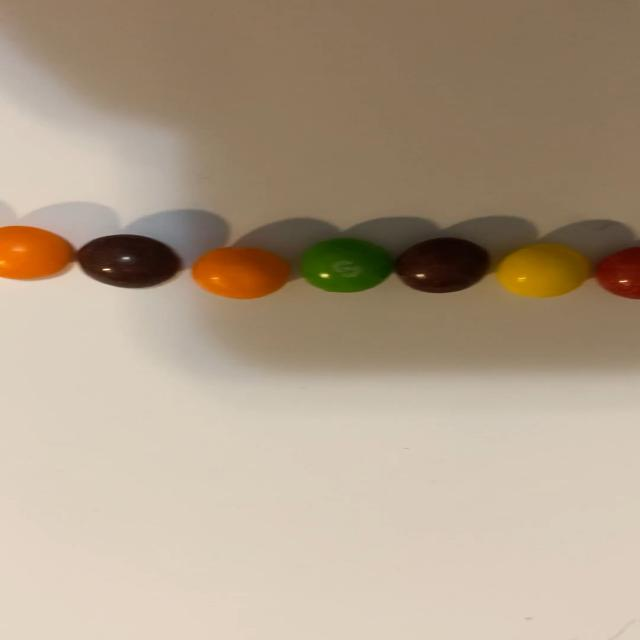smartie: (75, 234, 178, 288), (393, 237, 489, 292), (191, 247, 289, 299), (497, 244, 591, 297), (300, 238, 392, 292), (0, 226, 71, 279)
